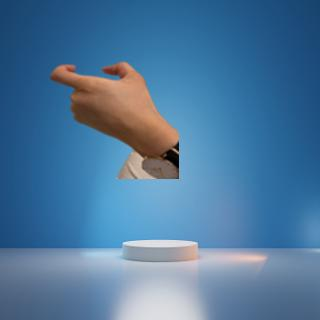HATE: (46, 56, 160, 145)
